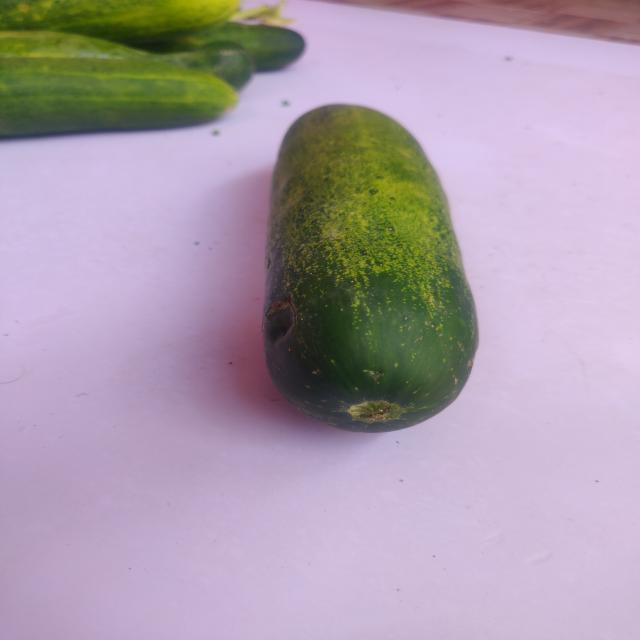Cucumber: (256, 98, 487, 444)
